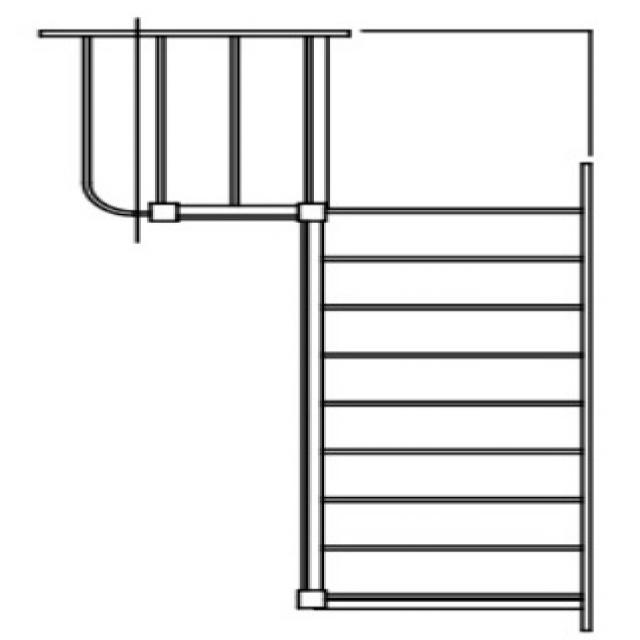stair: (34, 22, 598, 627)
